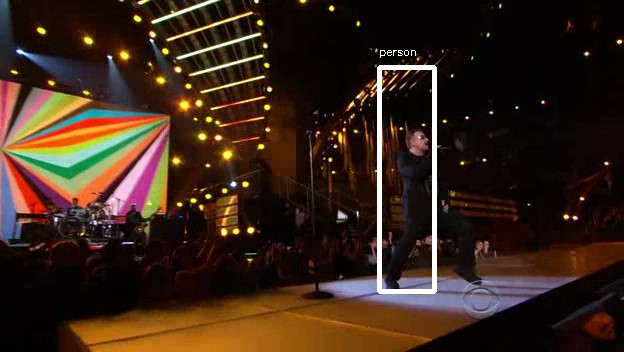person: (397, 133, 457, 240), (394, 133, 454, 240), (400, 133, 460, 240), (397, 130, 457, 237), (397, 136, 457, 243)
target_negative: (25, 4, 617, 193), (238, 107, 508, 219), (352, 229, 559, 312), (417, 77, 506, 262), (404, 300, 495, 334), (312, 346, 499, 352)
